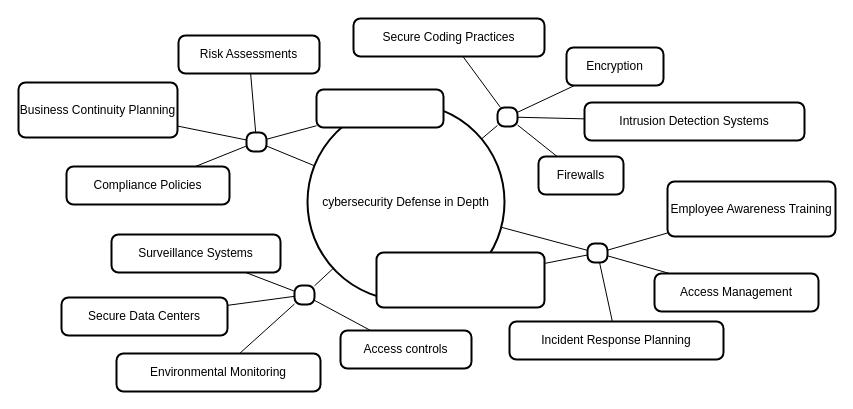
Some shapes in this 853 by 409 pixel diagram are drawn without their labels. The shapes that lost their labels are listed below. From the top down, each one's centre as x and y in pixels, then its label:
(x=379, y=108): Security Audits
(x=460, y=279): Security Policies and Procedures
